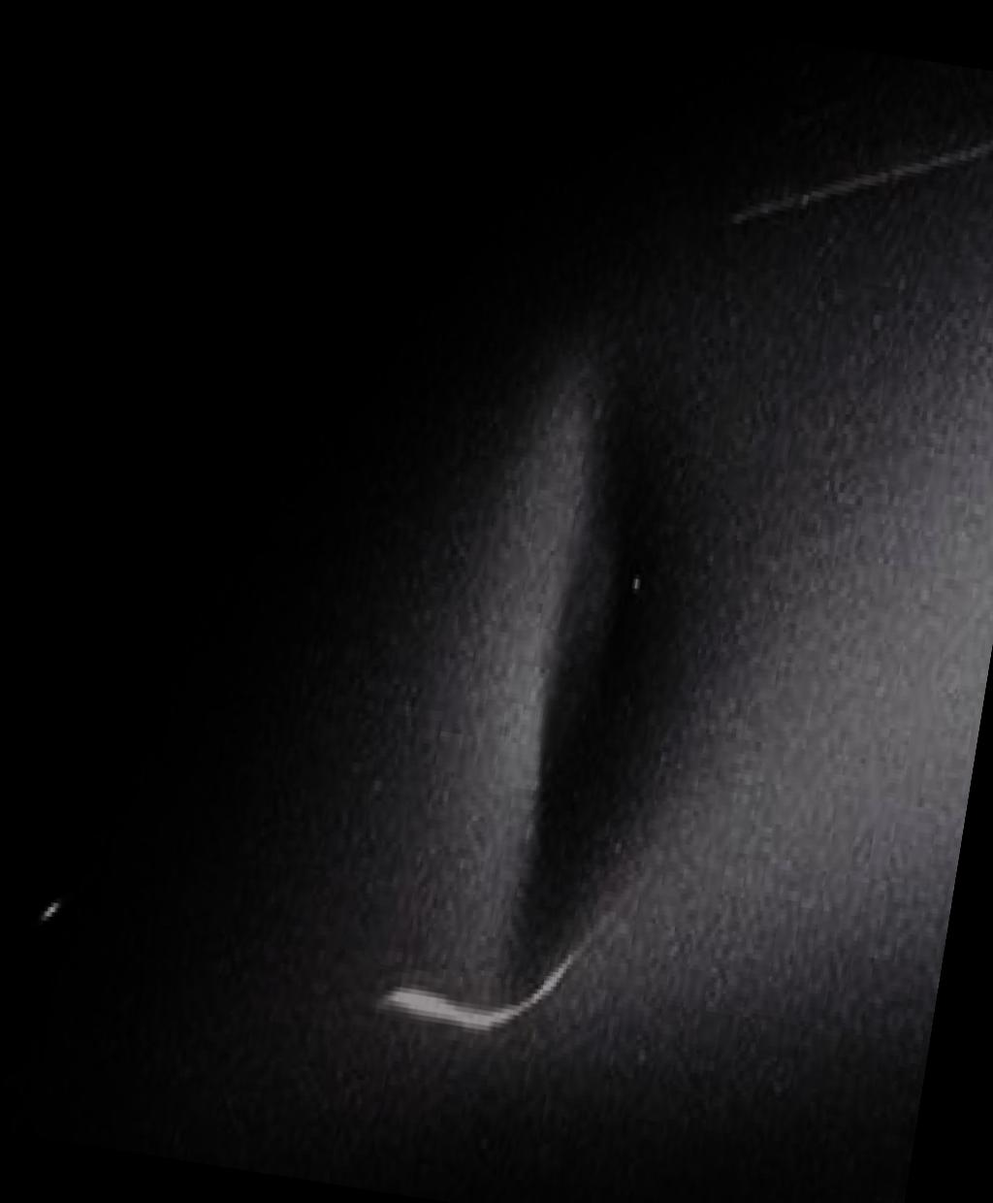dent: (449, 372, 712, 1045)
